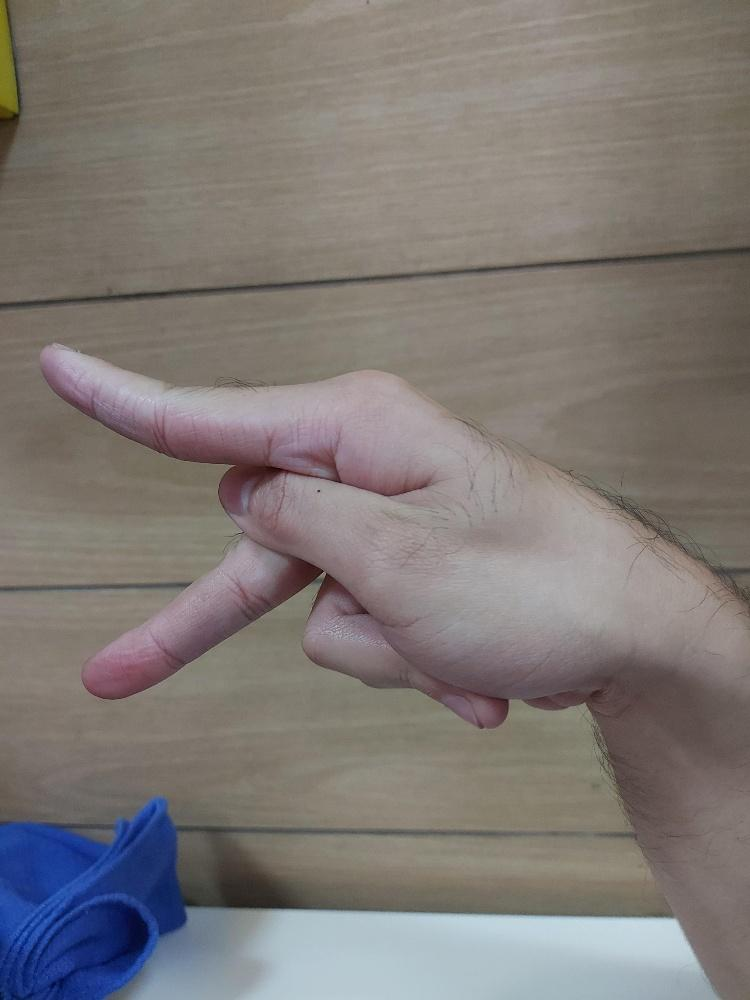p: (33, 336, 684, 730)
